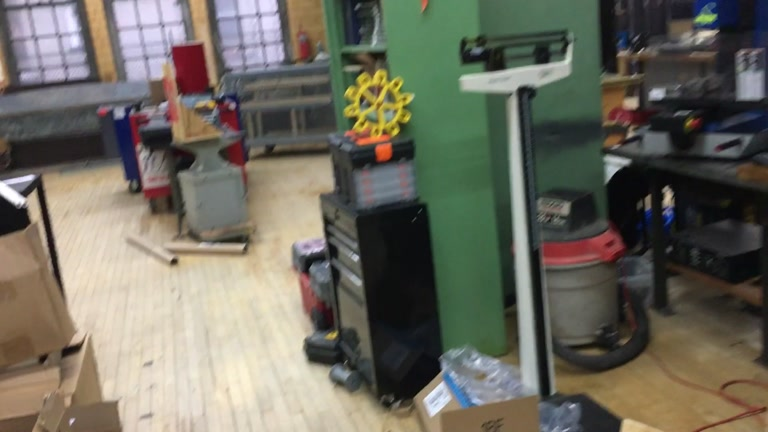gear: (343, 66, 414, 141)
